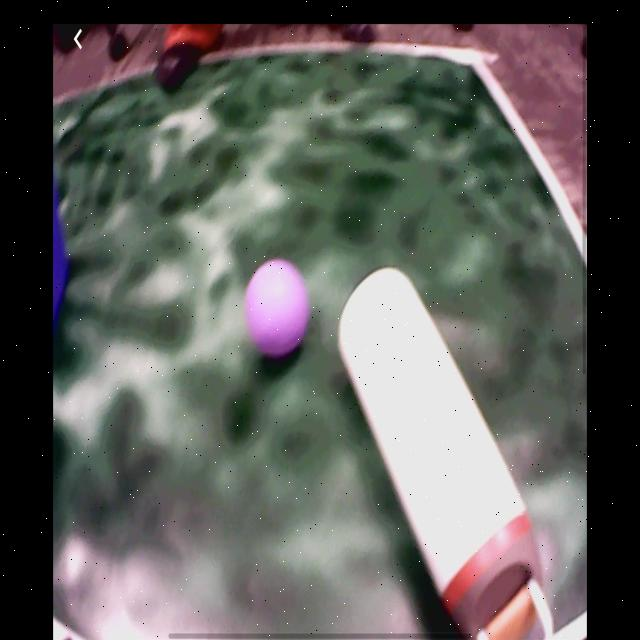ball: (246, 261, 310, 357)
